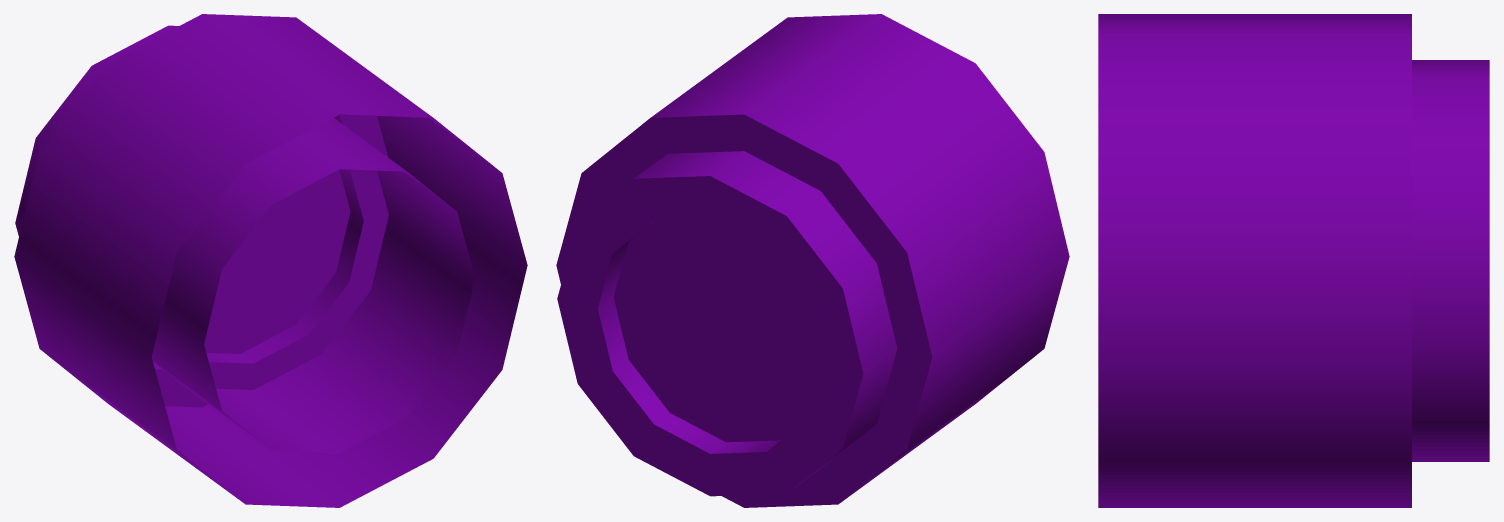
Rendered from Coper_Boiler_Meters.fbx.
The picture shows the model from 3 angles, left to right: view 1: azimuth 30°, elevation 25°; view 2: azimuth 150°, elevation 25°; view 3: azimuth 270°, elevation 25°; orthographic projection. The views are drawn at different scales.
Visible parts, largest first — view 1: Cylinder.009, Cylinder.012; view 2: Cylinder.009; view 3: Cylinder.009.
Boxes of the visible parts, x1,y1,x2,y2 form: Cylinder.009: (14, 14, 527, 507); Cylinder.012: (151, 117, 475, 453); Cylinder.009: (556, 14, 1069, 507); Cylinder.009: (1098, 14, 1489, 507).
Bounding box in the file's own units: 32.96 × 32.96 × 26.02.
